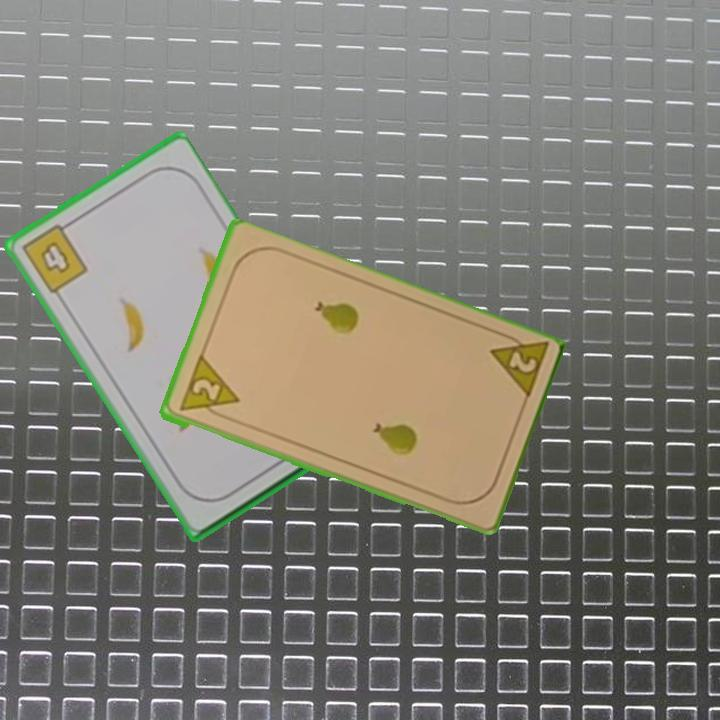2p: (485, 327, 551, 405), (174, 354, 242, 422)
4b: (17, 217, 91, 297)
